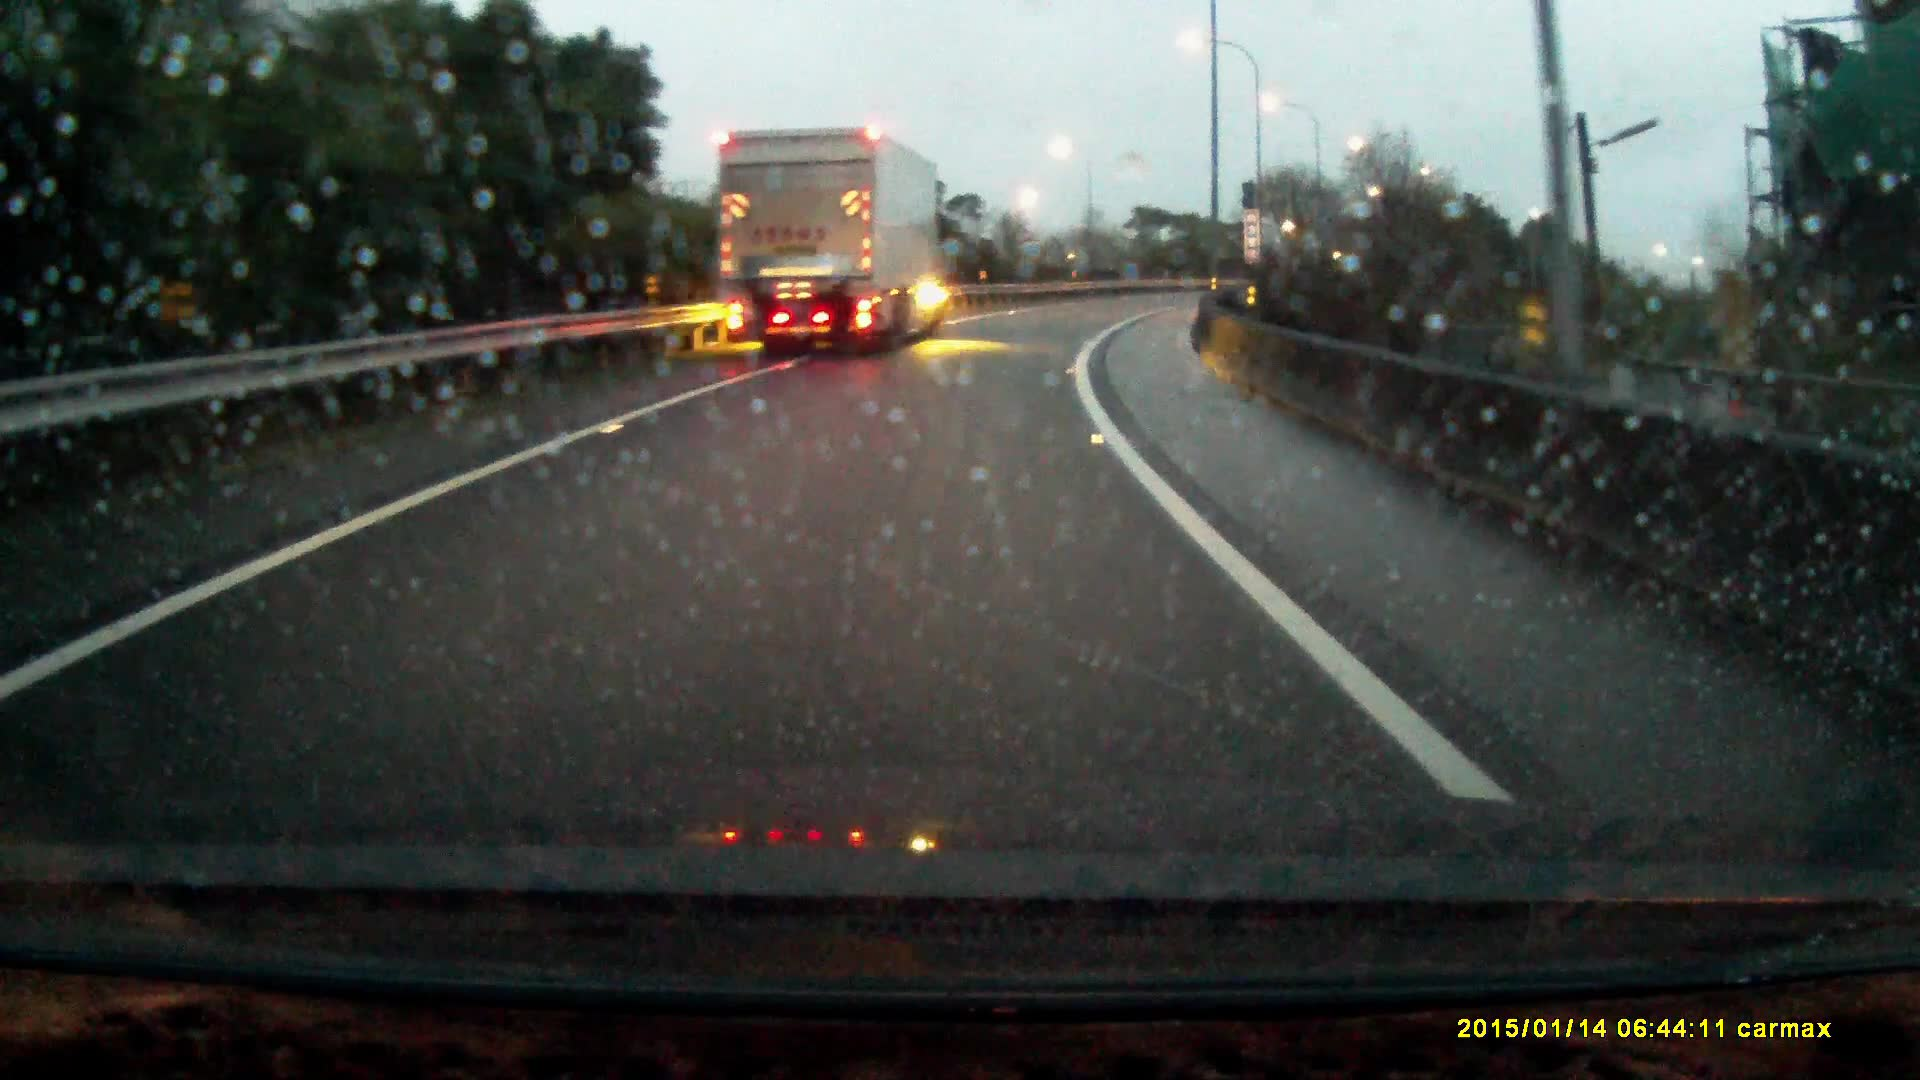vehicle: (716, 128, 949, 363)
